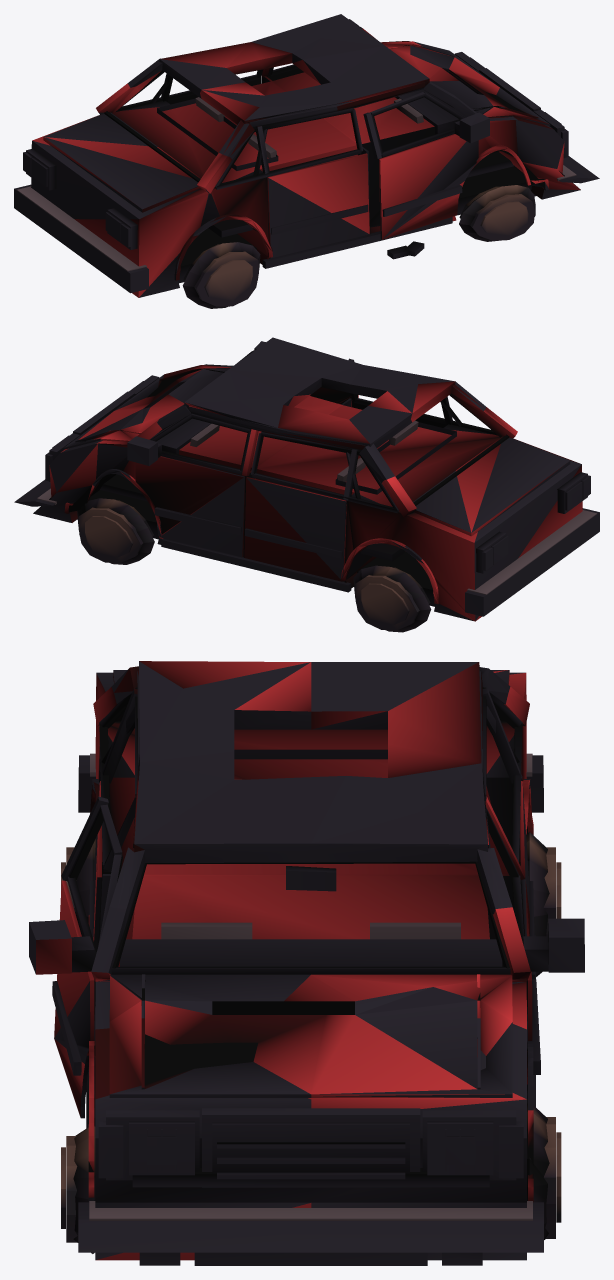
Rendered from veh.sedan-red.burned.lod1.glb.
3 views of the same model, one above another, from view 1: azimuth 30°, elevation 25°; view 2: azimuth 150°, elevation 25°; view 3: azimuth 270°, elevation 25° (orthographic). The views are drawn at different scales.
Visible parts, largest first — view 1: body, wheelRL, wheelFL; view 2: body, wheelRR, wheelFR; view 3: body, wheelFR, wheelFL, wheelRR, wheelRL.
Boxes of the visible parts, x1,y1,x2,y2 form: body: [14, 14, 599, 297]; wheelRL: [182, 242, 260, 308]; wheelFL: [459, 185, 535, 241]; body: [14, 337, 599, 621]; wheelRR: [353, 565, 431, 632]; wheelFR: [77, 498, 154, 564]; body: [29, 661, 584, 1265]; wheelFR: [527, 1103, 561, 1239]; wheelFL: [61, 1125, 95, 1253]; wheelRR: [526, 832, 561, 976]; wheelRL: [61, 838, 95, 936].
Bounding box in the file's own units: 4.52 × 1.57 × 2.32.
